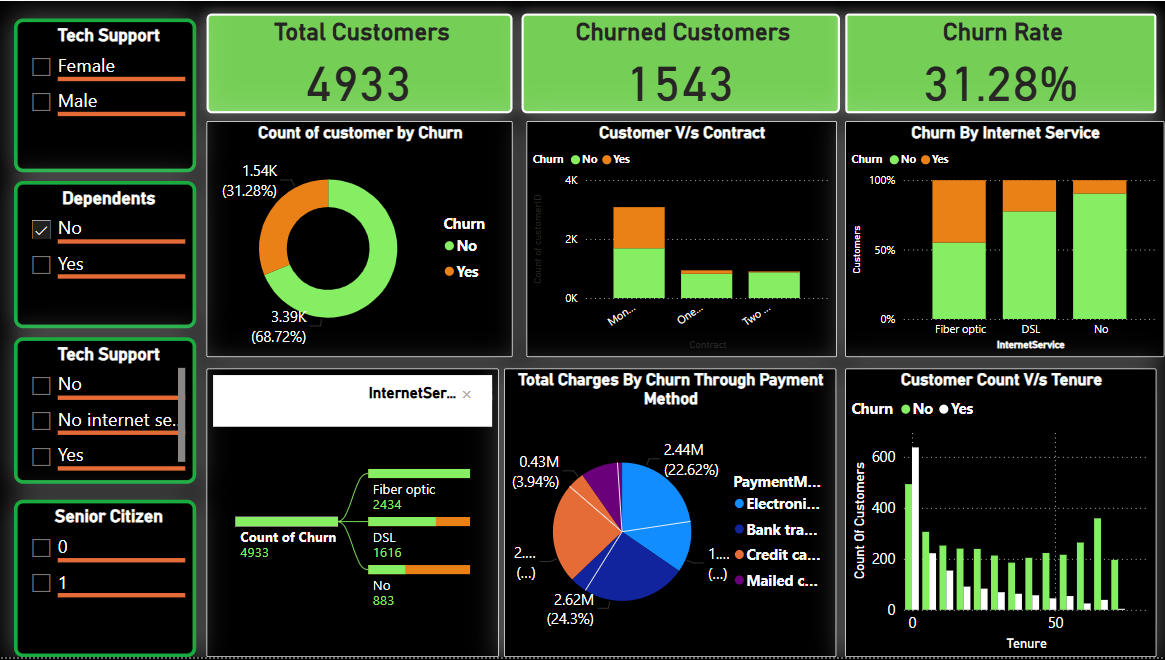

This screenshot's page, from the dashboard's own definition file:
{"tool":"powerbi","page":{"name":"Page 2","canvas":[1280,720],"ordinal":1},"visuals":[{"type":"card","title":"Total Customers","fields":{"Values":["Count(cleaned_teco_churn.customerID)"]},"box":[228.1,18.5,336.4,96.9],"z":0},{"type":"card","title":"Churned Customers","fields":{"Values":["CountNonNull(cleaned_teco_churn.Churn)"]},"box":[578.7,18.5,340.7,96.9],"z":1000},{"type":"card","title":"Churn Rate","fields":{"Values":["cleaned_teco_churn.Churn Rate"]},"box":[929,19.2,341.7,96.1],"z":2000},{"type":"donutChart","title":"Count of customer by Churn","fields":{"Y":["CountNonNull(cleaned_teco_churn.customerID)"],"Category":["cleaned_teco_churn.Churn"]},"box":[228.1,131.1,336.4,259.4],"z":3000},{"type":"columnChart","title":"Customer V/s  Contract","fields":{"Category":["cleaned_teco_churn.Contract"],"Series":["cleaned_teco_churn.Churn"],"Y":["CountNonNull(cleaned_teco_churn.customerID)"]},"box":[578.7,131.1,340.7,259.4],"z":4000},{"type":"decompositionTreeVisual","title":"Count of customer by Churn","fields":{"Analyze":["CountNonNull(cleaned_teco_churn.Churn)"],"ExplainBy":["cleaned_teco_churn.InternetService","cleaned_teco_churn.Contract","cleaned_teco_churn.PaymentMethod"]},"box":[228.1,403.4,320.7,316.4],"z":5000},{"type":"hundredPercentStackedColumnChart","title":"Churn By Internet Service","fields":{"Category":["cleaned_teco_churn.InternetService"],"Series":["cleaned_teco_churn.Churn"],"Y":["CountNonNull(cleaned_teco_churn.customerID)"]},"box":[929.4,131.1,350.6,259.4],"z":6000},{"type":"pieChart","title":"Total Charges By Churn Through Payment Method","fields":{"Y":["Sum(cleaned_teco_churn.TotalCharges)"],"Category":["cleaned_teco_churn.PaymentMethod"],"Series":["cleaned_teco_churn.Churn"]},"box":[554.5,403.4,364.9,316.4],"z":7000},{"type":"clusteredColumnChart","title":"Customer Count V/s Tenure","fields":{"Category":["cleaned_teco_churn.tenure (bins)"],"Series":["cleaned_teco_churn.Churn"],"Y":["CountNonNull(cleaned_teco_churn.customerID)"]},"box":[929,403.4,341.7,317],"z":8000},{"type":"slicer","title":"Tech Support","fields":{"Values":["cleaned_teco_churn.gender"]},"box":[16.5,19.2,200.3,168.8],"z":8001},{"type":"slicer","title":"Dependents","fields":{"Values":["cleaned_teco_churn.Dependents"]},"box":[16.5,197.6,200.3,161.9],"z":8002},{"type":"slicer","title":"Tech Support","fields":{"Values":["cleaned_teco_churn.TechSupport"]},"box":[16.5,369.1,200.3,160.5],"z":8003},{"type":"slicer","title":"Senior Citizen","fields":{"Values":["cleaned_teco_churn.SeniorCitizen"]},"box":[16.5,547.5,200.3,172.9],"z":8004}]}

Visuals, with their boxes in screenshot pixels (x1, y1, x2, y2), scaled from the page's 1280x720 canvas onto the 1165x660 screenshot:
"Total Customers" card: bbox=[208, 17, 514, 106]
"Churned Customers" card: bbox=[527, 17, 837, 106]
"Churn Rate" card: bbox=[846, 18, 1157, 106]
"Count of customer by Churn" donutChart: bbox=[208, 120, 514, 358]
"Customer V/s  Contract" columnChart: bbox=[527, 120, 837, 358]
"Count of customer by Churn" decompositionTreeVisual: bbox=[208, 370, 499, 659]
"Churn By Internet Service" hundredPercentStackedColumnChart: bbox=[846, 120, 1164, 358]
"Total Charges By Churn Through Payment Method" pieChart: bbox=[505, 370, 837, 659]
"Customer Count V/s Tenure" clusteredColumnChart: bbox=[846, 370, 1157, 659]
"Tech Support" slicer: bbox=[15, 18, 197, 172]
"Dependents" slicer: bbox=[15, 181, 197, 330]
"Tech Support" slicer: bbox=[15, 338, 197, 485]
"Senior Citizen" slicer: bbox=[15, 502, 197, 659]
